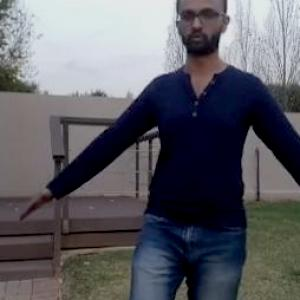land: (39, 0, 300, 299)
